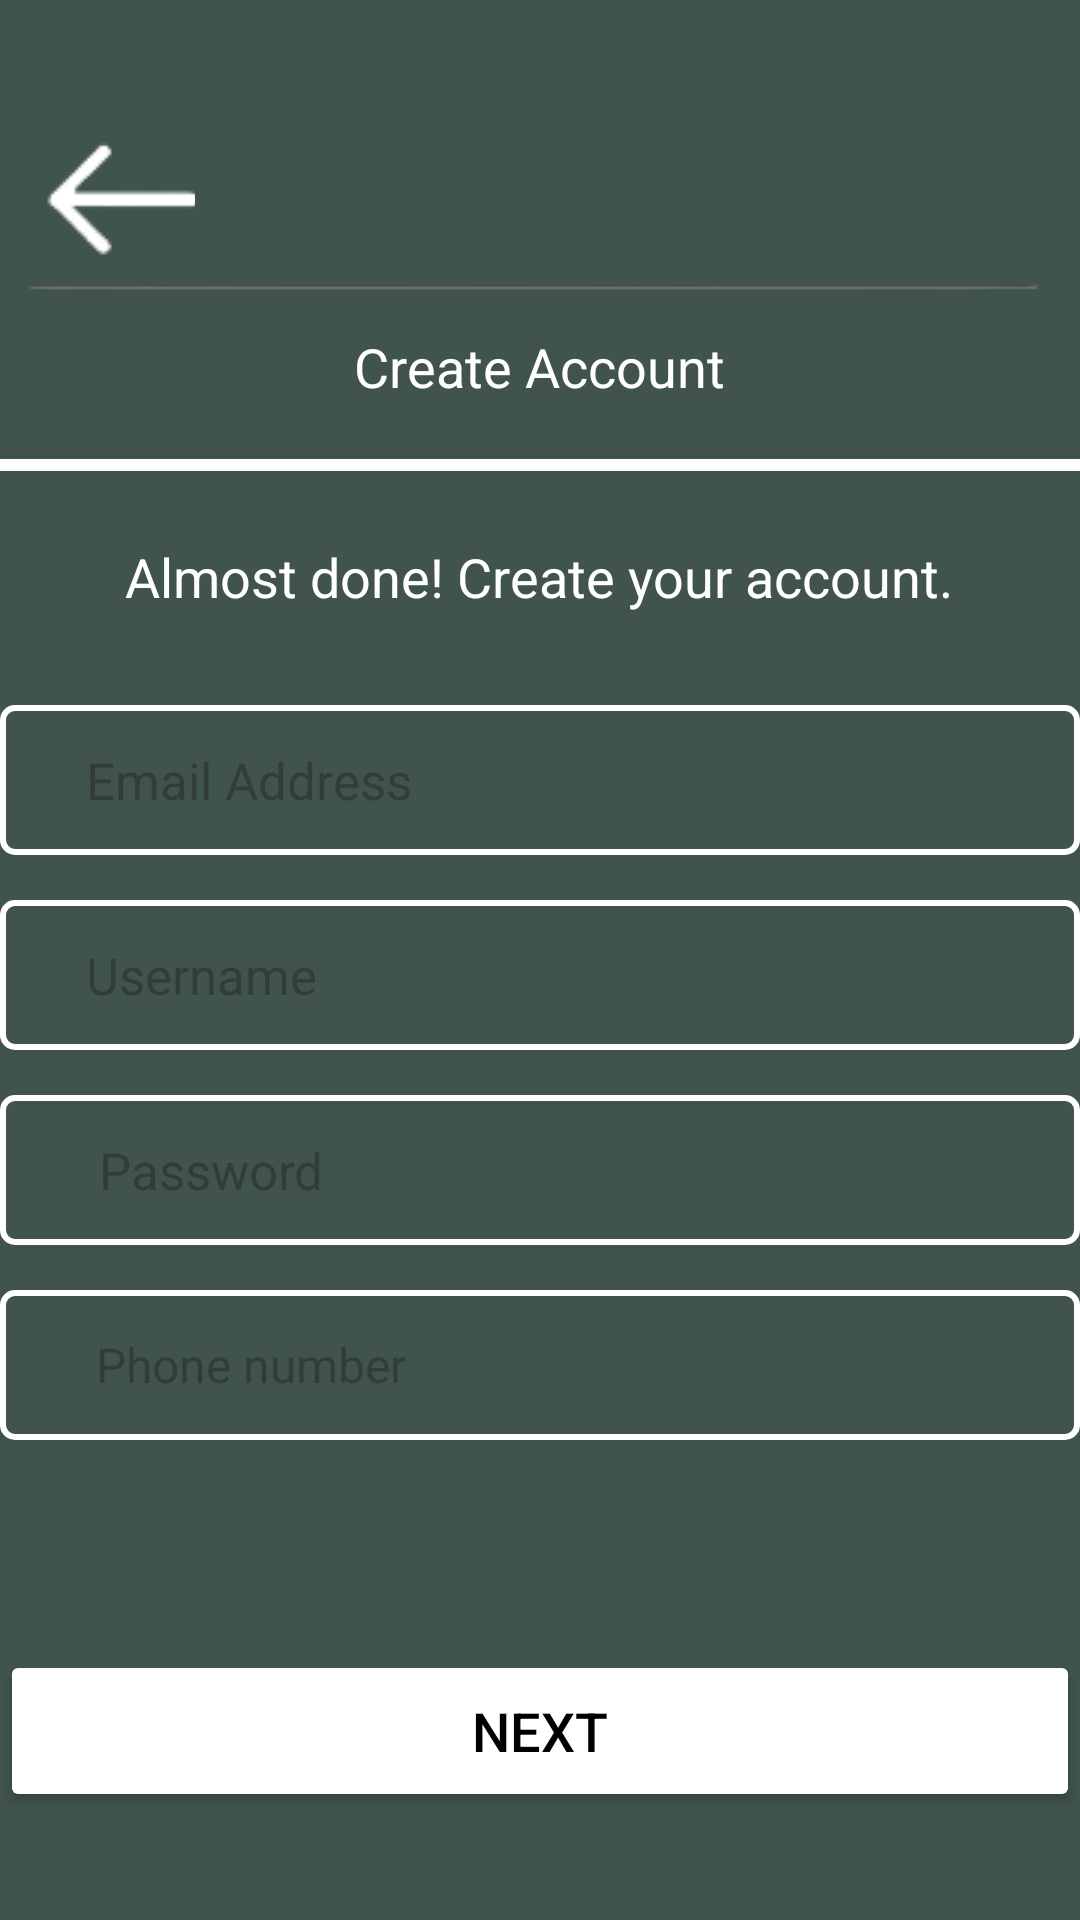

Point at icon controls on the screen. Image size 1080w x 1920h, points as [x,y].
backbuttt: [121,199]
